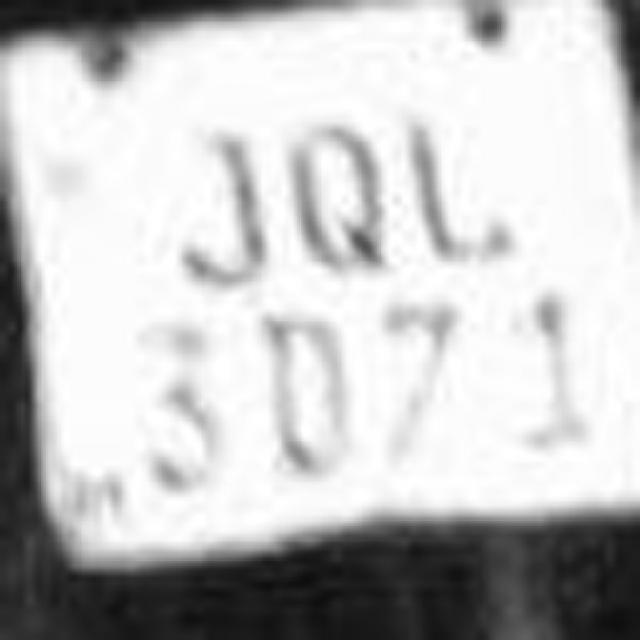1: (480, 260, 608, 468)
3: (100, 296, 260, 512)
7: (356, 276, 476, 492)
D: (240, 280, 375, 500)
J: (392, 84, 528, 276), (140, 124, 280, 304)
Q: (272, 100, 396, 292)
